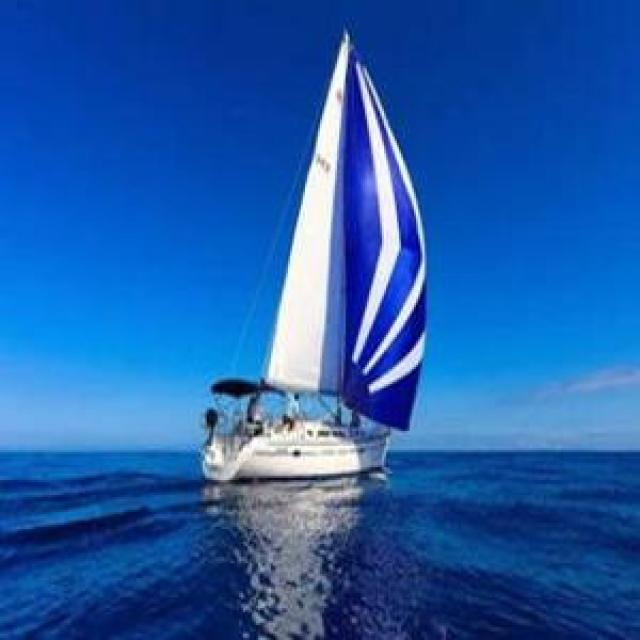sailboat: (170, 38, 454, 494)
